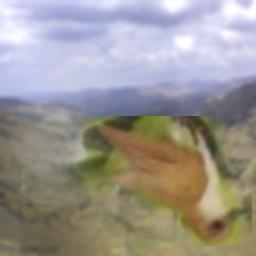Cuckoo: (21, 116, 252, 246)
